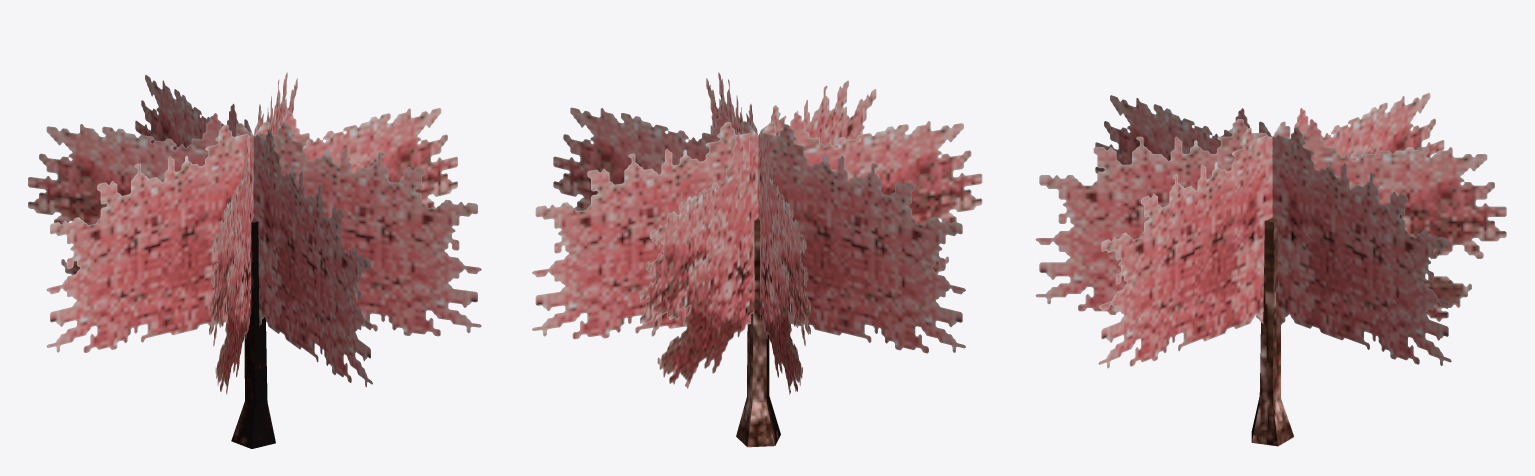
Rendered from Sakura Tree.obj.
3 renders of one model, left to right at view 1: azimuth 30°, elevation 25°; view 2: azimuth 150°, elevation 25°; view 3: azimuth 270°, elevation 25°, orthographic.
Visible parts, largest first — view 1: Bush_2.001, Trunk.003; view 2: Bush_2.001, Trunk.003; view 3: Bush_2.001, Trunk.003.
Part boxes in pixels (x1,y1,x2,y2): Bush_2.001: (28,72,481,394); Trunk.003: (231,218,275,448); Bush_2.001: (532,72,982,394); Trunk.003: (736,218,780,447); Bush_2.001: (1035,93,1506,368); Trunk.003: (1251,218,1294,446).
Size of the model in its own units: 42.8 by 30.21 by 42.8.
